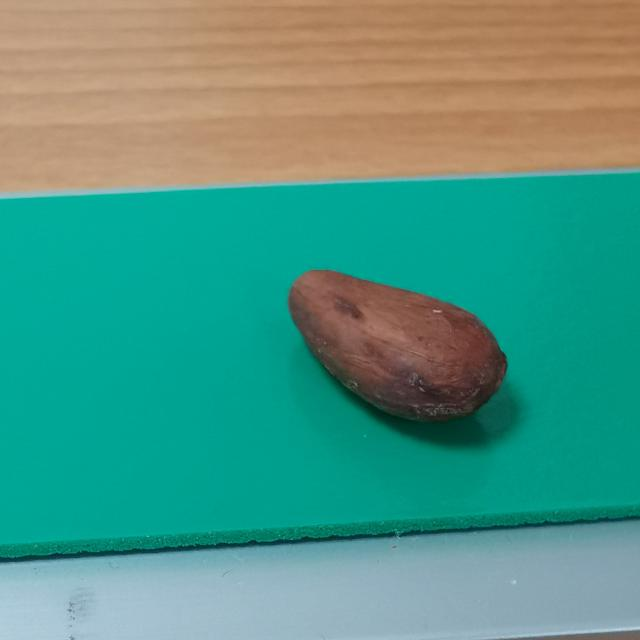Fine_cocoabeans: (195, 244, 580, 473)
